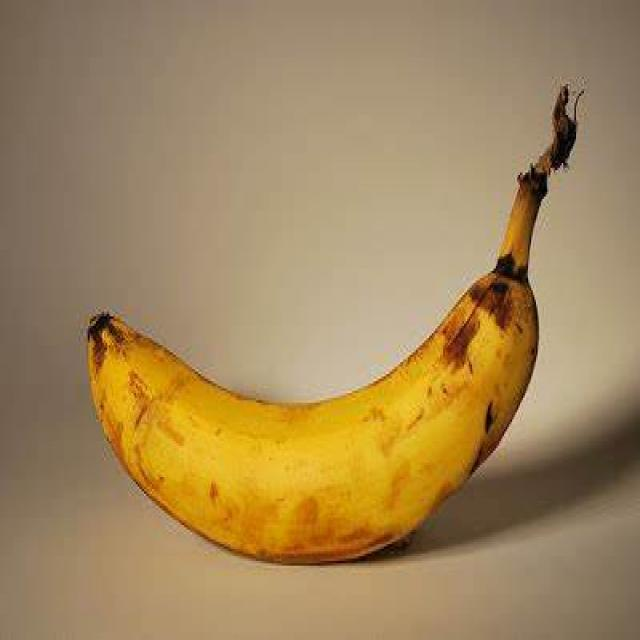Banana: (79, 82, 587, 568)
